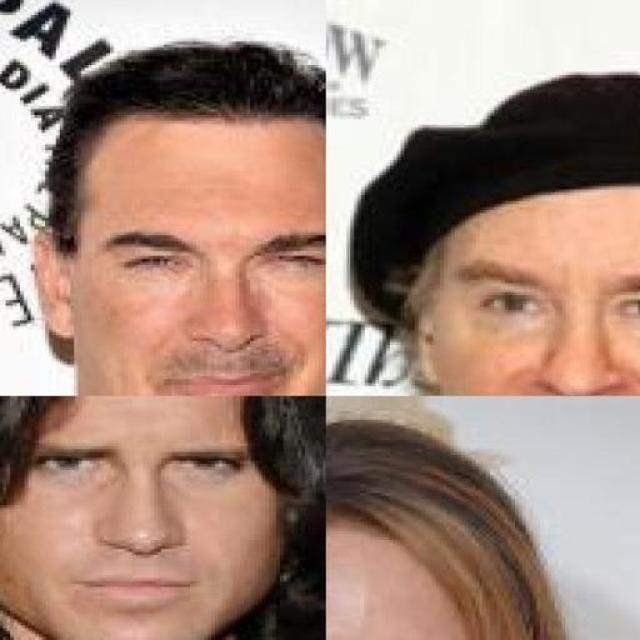bareface: (26, 46, 330, 389)
